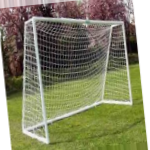goals: (18, 13, 135, 148)
